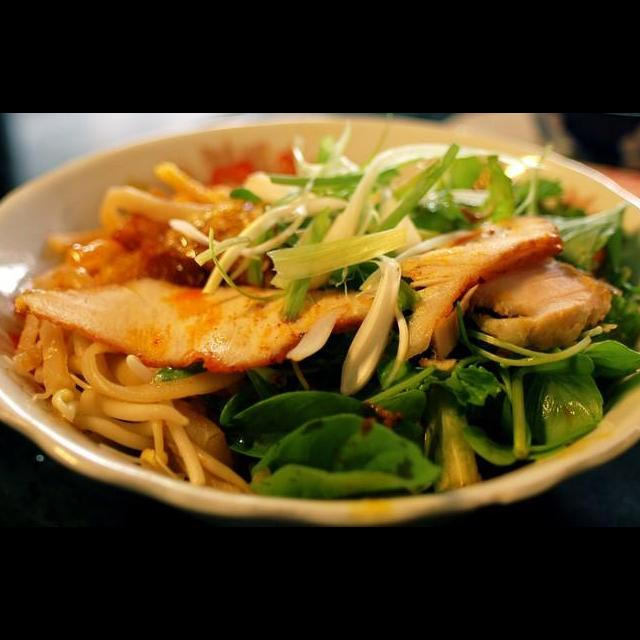mi: (0, 308, 278, 500), (23, 156, 276, 297)
thit heo: (9, 272, 387, 376), (374, 210, 566, 365), (438, 222, 628, 352)
